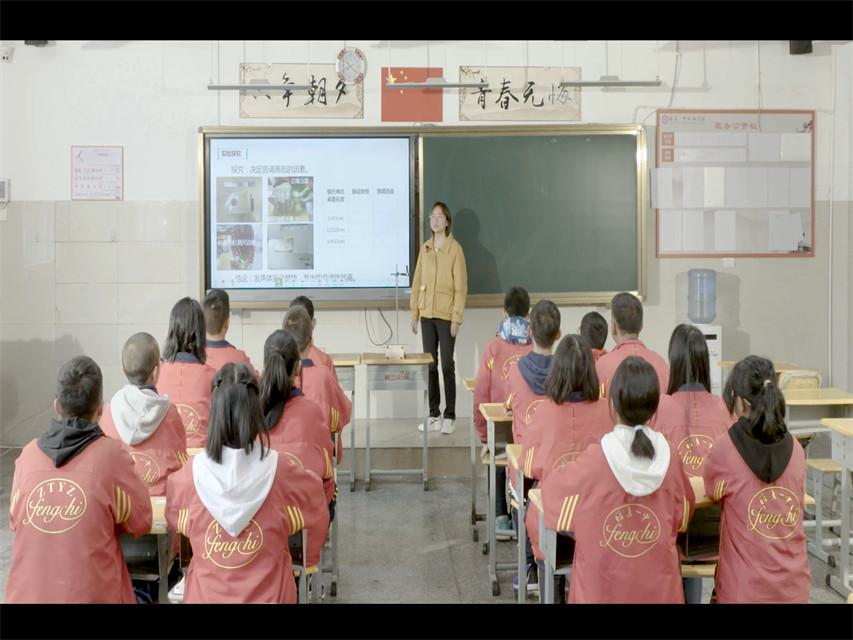listen: (562, 357, 668, 587), (712, 352, 808, 567), (181, 356, 269, 567), (42, 352, 113, 496), (529, 337, 608, 436), (104, 328, 165, 440), (663, 319, 723, 432), (255, 324, 310, 440), (158, 296, 209, 402), (593, 282, 663, 358), (513, 301, 557, 393), (191, 283, 242, 361), (488, 284, 536, 361)
